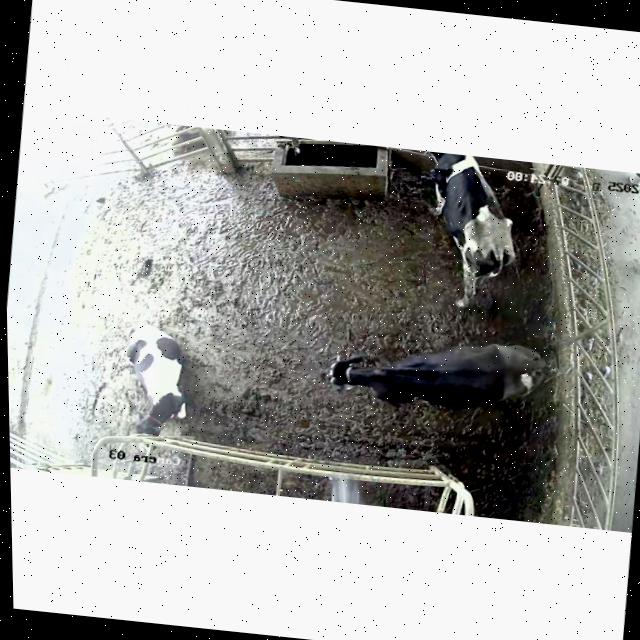stand: (307, 316, 552, 434), (377, 147, 537, 320)
